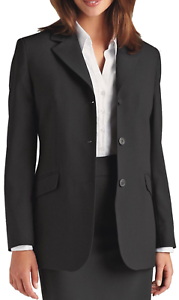F_W_suit jacket: (5, 20, 176, 260)
